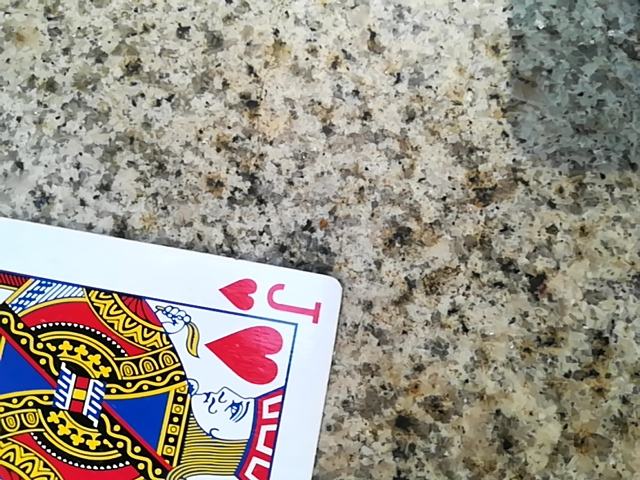hx j: (0, 198, 342, 479)
